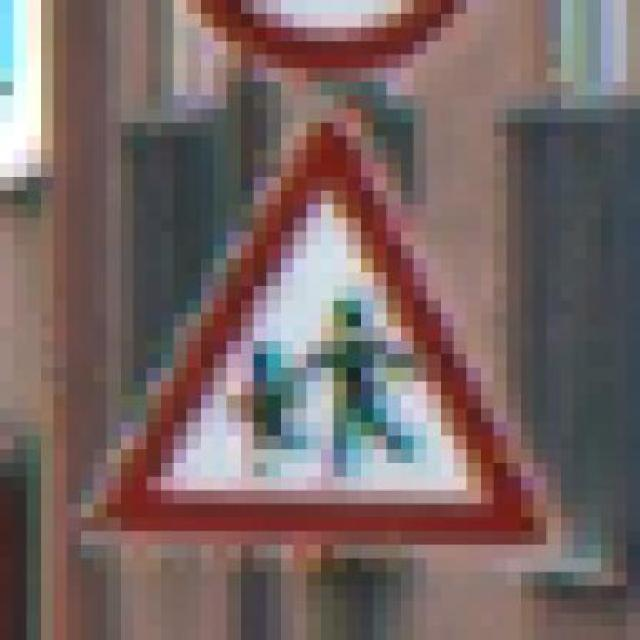Beware of children: (93, 96, 547, 558)
